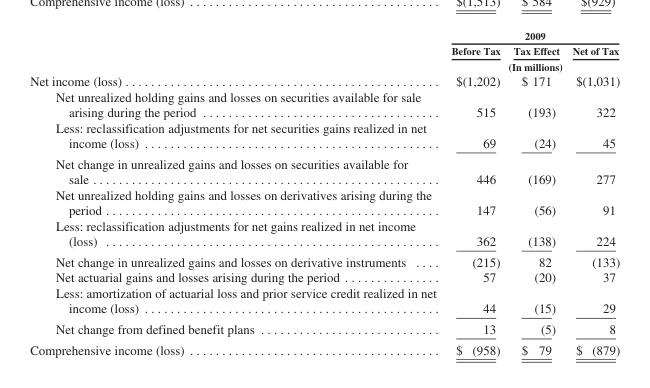table: (29, 28, 619, 356)
table column: (29, 28, 443, 356), (443, 28, 506, 356), (506, 28, 565, 356), (565, 28, 619, 356)
table column header: (29, 28, 619, 72)
table row: (29, 119, 619, 153), (29, 217, 619, 251), (29, 284, 619, 318), (29, 153, 619, 186), (29, 88, 619, 119), (29, 186, 619, 217), (29, 318, 619, 339), (29, 251, 619, 269), (29, 339, 619, 356), (29, 42, 619, 58), (29, 72, 619, 88), (29, 269, 619, 284), (29, 28, 619, 42), (29, 58, 619, 72)
table spanning cell: (443, 28, 619, 42), (443, 58, 619, 72)
